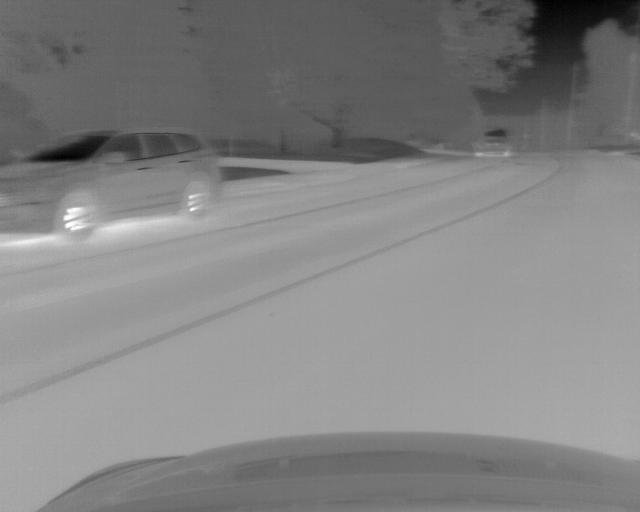car: (1, 126, 224, 243), (471, 128, 514, 160)
